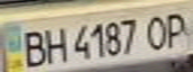1: (87, 19, 106, 58)
4: (69, 20, 90, 61)
7: (118, 16, 142, 55)
8: (103, 17, 124, 56)
B: (18, 27, 48, 69)
H: (39, 24, 69, 64)
O: (142, 11, 172, 51)
P: (160, 8, 193, 50)
